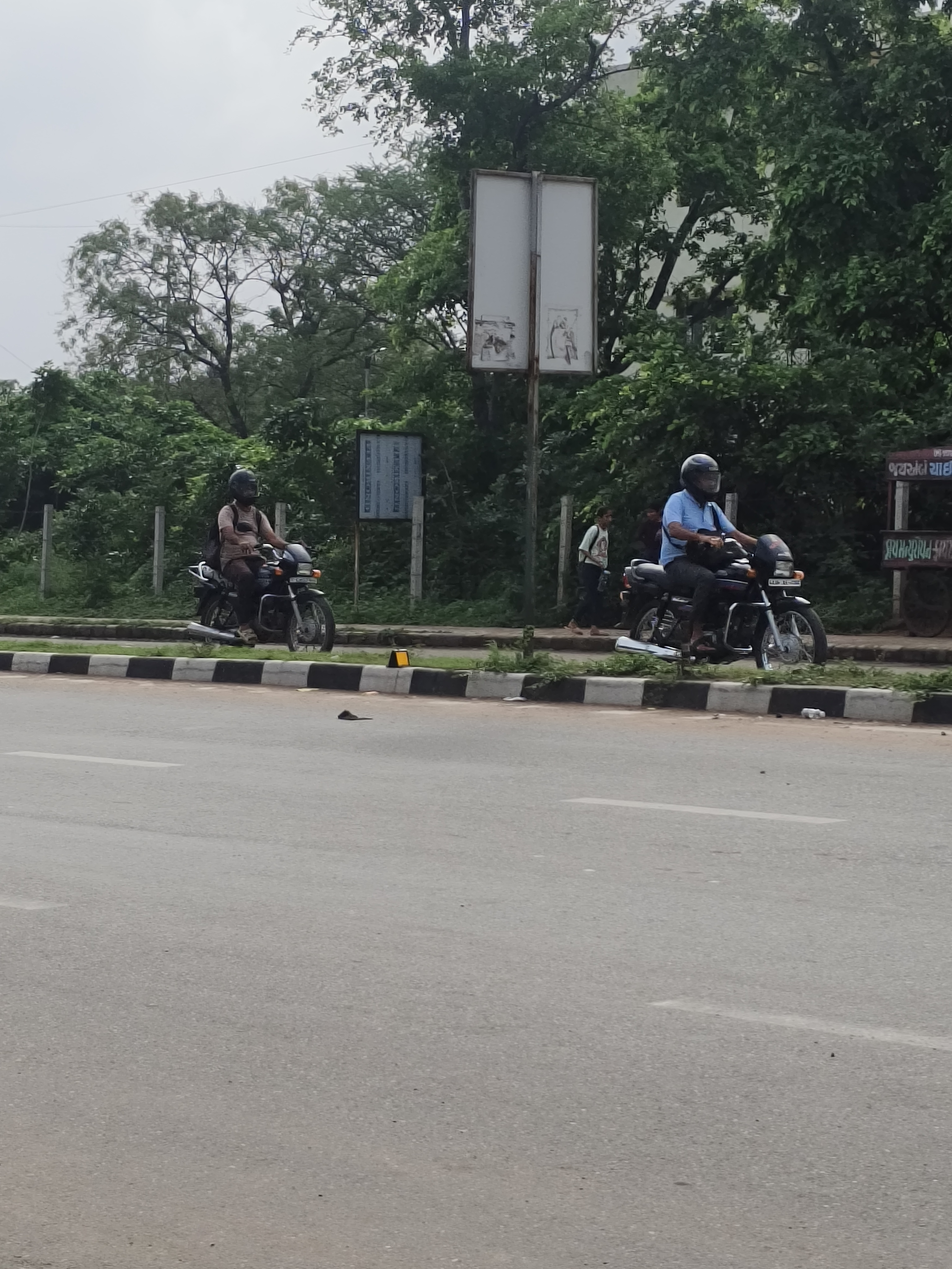BikeWithRider: (609, 444, 836, 678), (178, 460, 345, 658)
Helmet: (673, 446, 729, 507), (223, 463, 265, 510)
